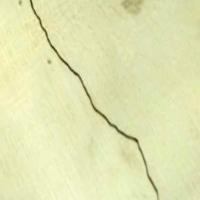crack: (29, 1, 164, 200)
